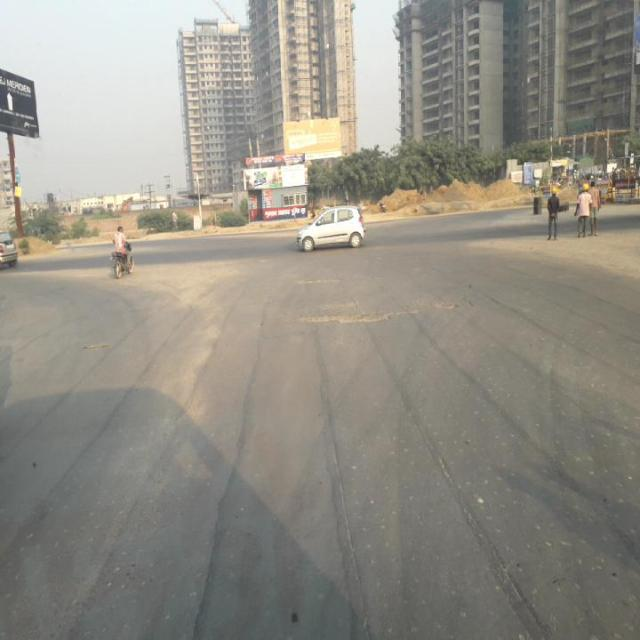D40: (282, 300, 472, 324)
